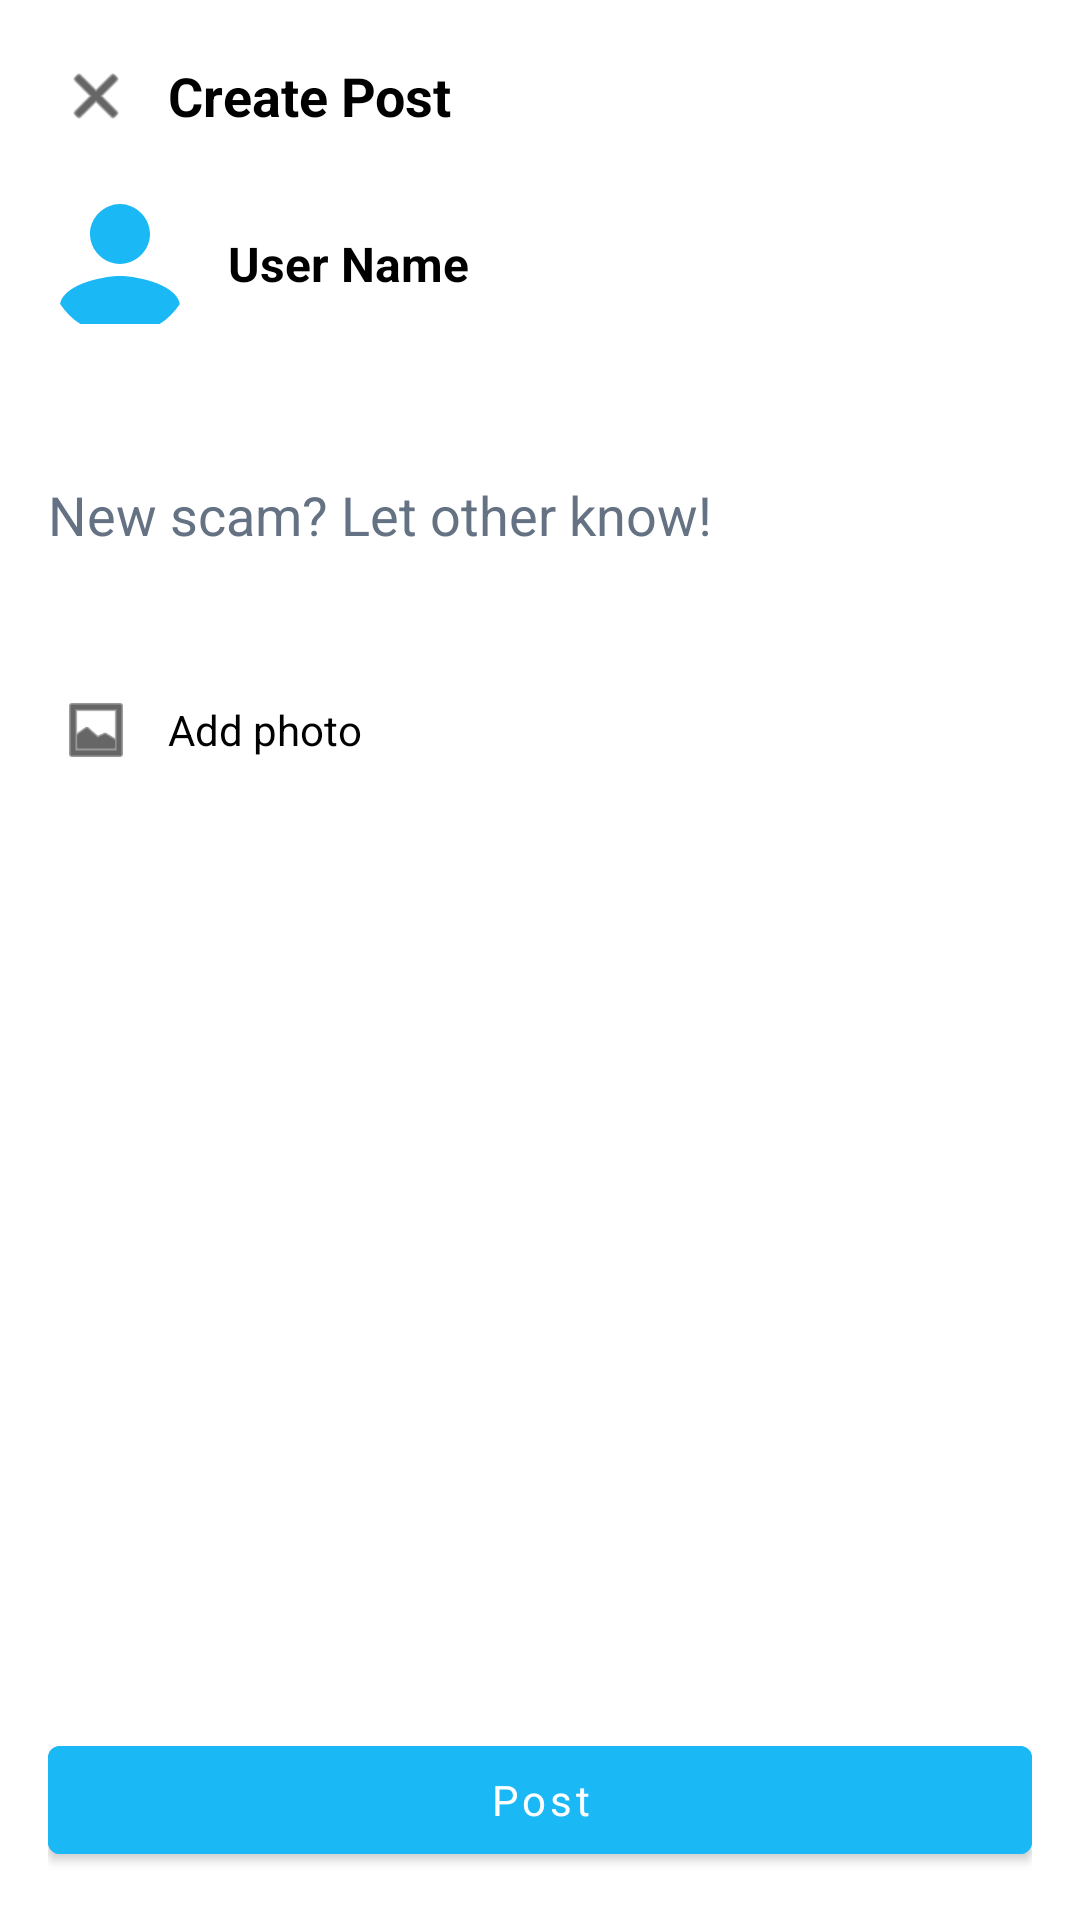

Where icons sit on this 1080×1920 app screen, as (x1, y1, x2, y2):
close clear cancel: (73, 73, 119, 119)
gallery: (69, 703, 123, 757)
profile: (60, 204, 180, 324)
